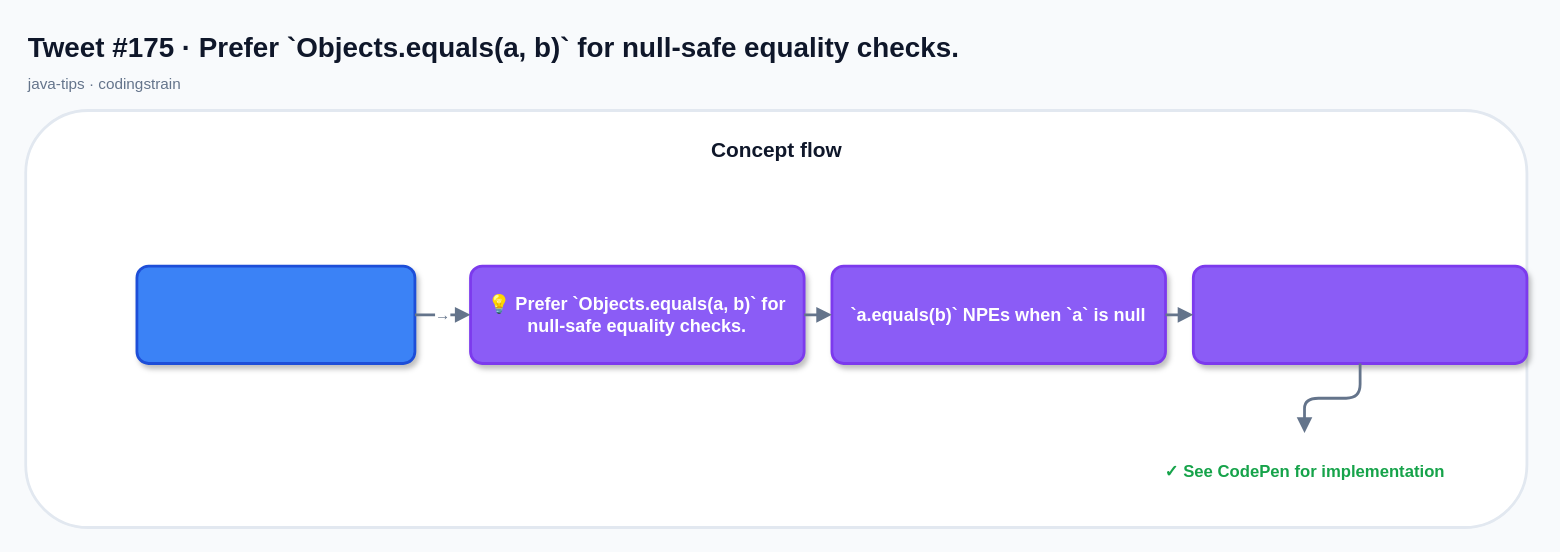
Image size: 1560x552. Some labels were removed from this diagram. Each missing label, with the centre of its shape:
"`Objects.equals` handles null on either side" belongs at point (1361, 316).
"Problem / context" belongs at point (276, 316).
